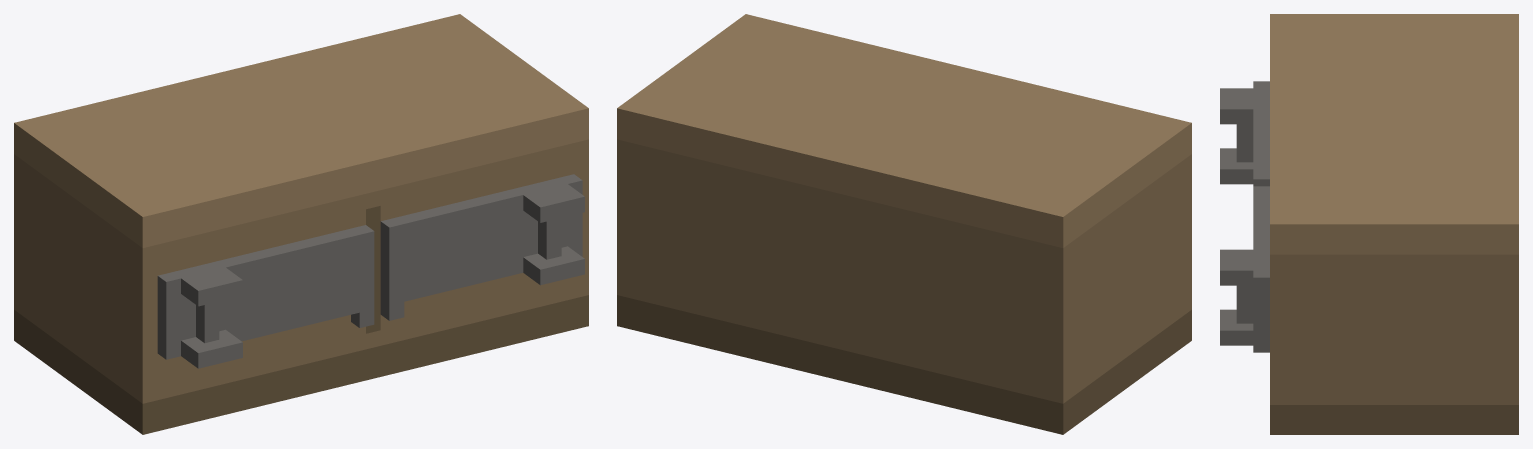
File: aparador_roble_01.glb
3 renders of one model, left to right at view 1: azimuth 30°, elevation 25°; view 2: azimuth 150°, elevation 25°; view 3: azimuth 270°, elevation 25°, orthographic. The views are drawn at different scales.
Parts seen in each view (by area): view 1: aparador_roble; view 2: aparador_roble; view 3: aparador_roble.
Part boxes in pixels (box(x1,y1,x2,y2)): aparador_roble: box(14, 14, 588, 434); aparador_roble: box(617, 14, 1191, 434); aparador_roble: box(1220, 14, 1518, 434).
Size of the model in its own units: 2 by 0.9333 by 1.2.
